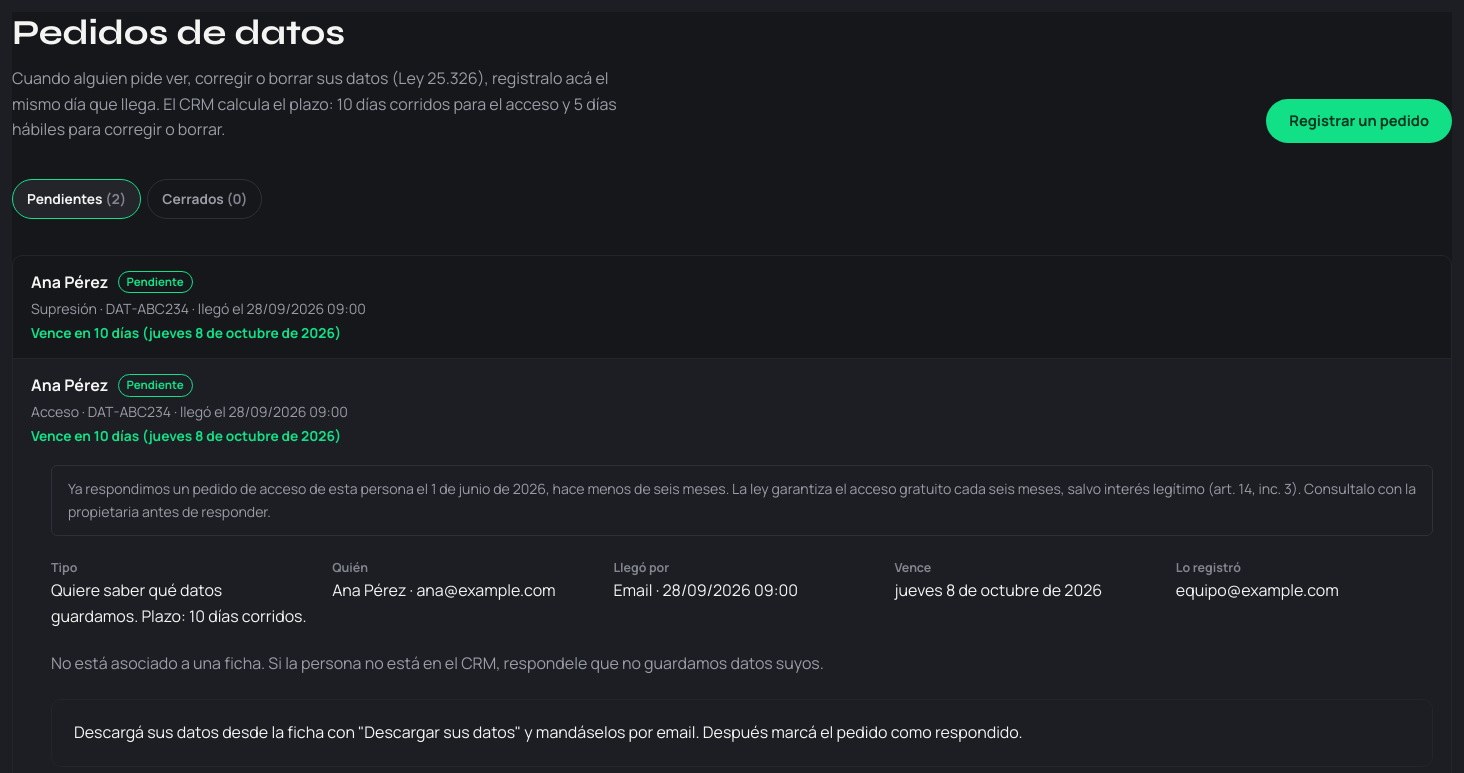
it: DataRequestsPage › abre el pedido que llega en el link y avisa si faltan feriados o si pidió acceso hace poco
Expected: the text "hace menos de seis meses" is shown, [68, 479, 1416, 521]
Click the button "Ana Pérez" at coordinates (70, 282), box [13, 256, 1451, 358]
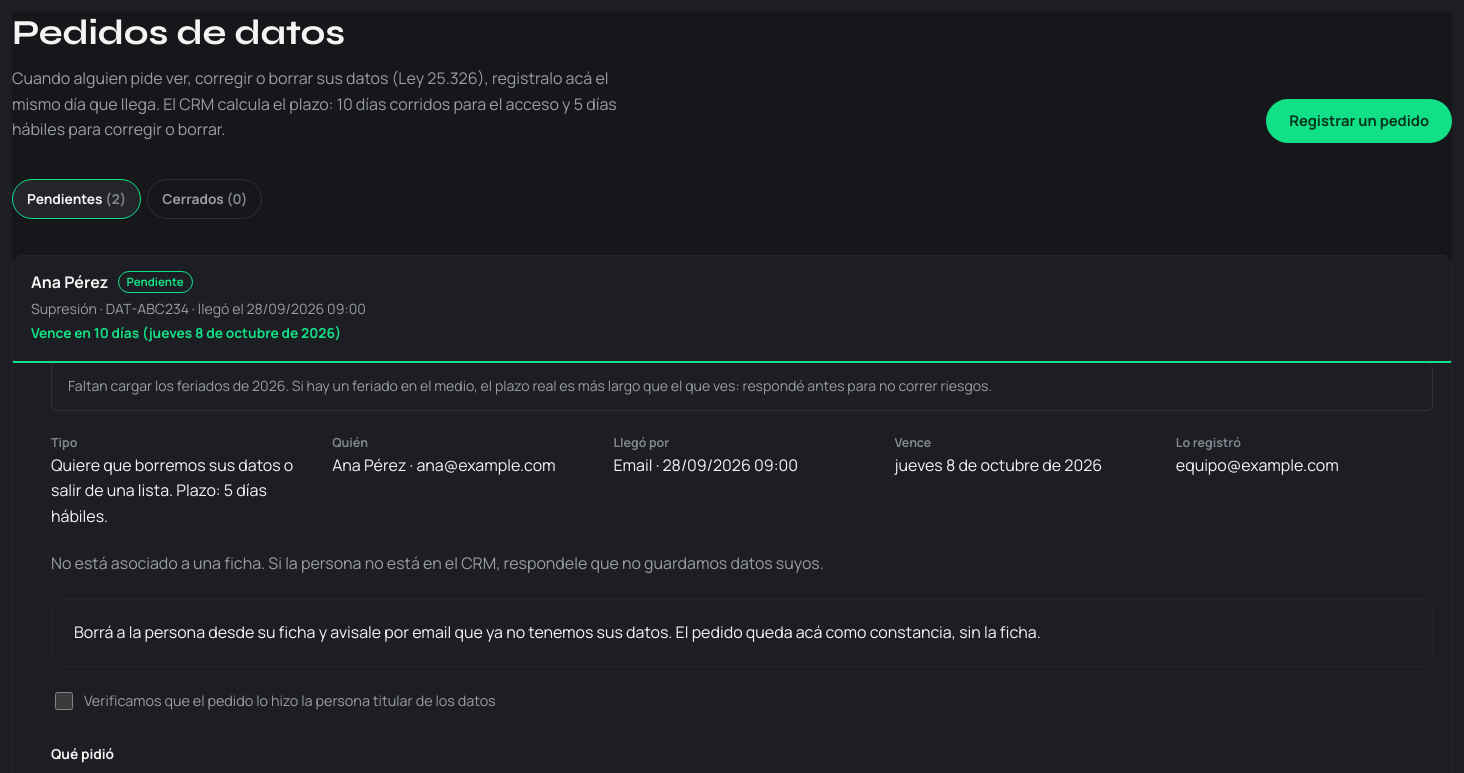
Expected: the text "Faltan cargar los feriados de 2026" is shown, [51, 362, 1433, 411]
